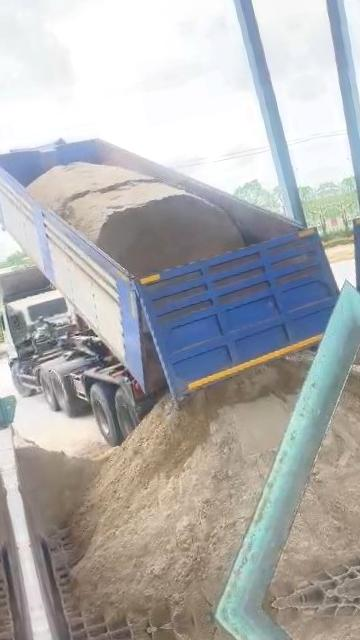sand: (70, 360, 308, 625), (28, 162, 244, 277), (270, 375, 360, 600), (17, 438, 101, 535), (144, 331, 166, 390)
